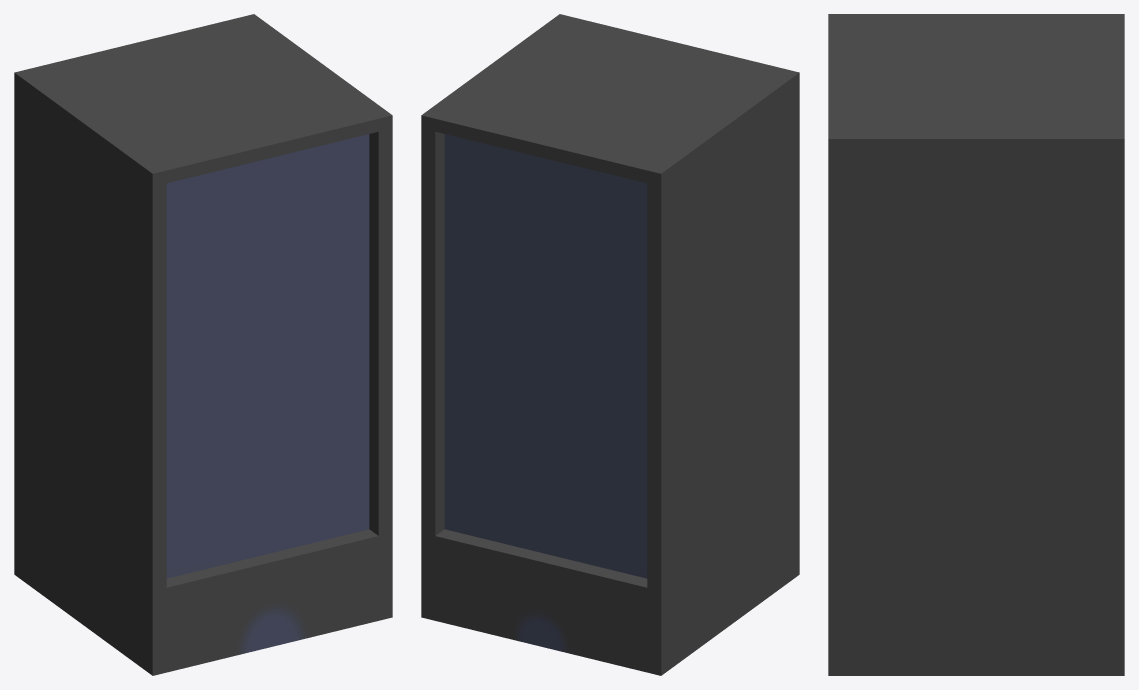
Rendered from Building.glb.
3 renders of one model, left to right at view 1: azimuth 30°, elevation 25°; view 2: azimuth 150°, elevation 25°; view 3: azimuth 270°, elevation 25°, orthographic. The views are drawn at different scales.
Parts seen in each view (by area): view 1: Building; view 2: Building; view 3: Building.
Boxes of the visible parts, bbox=[...] form: Building: bbox=[14, 14, 392, 675]; Building: bbox=[421, 14, 799, 675]; Building: bbox=[828, 14, 1124, 675].
Size of the model in its own units: 2 by 4 by 2.
Materials: 1 (1 with a texture image).
